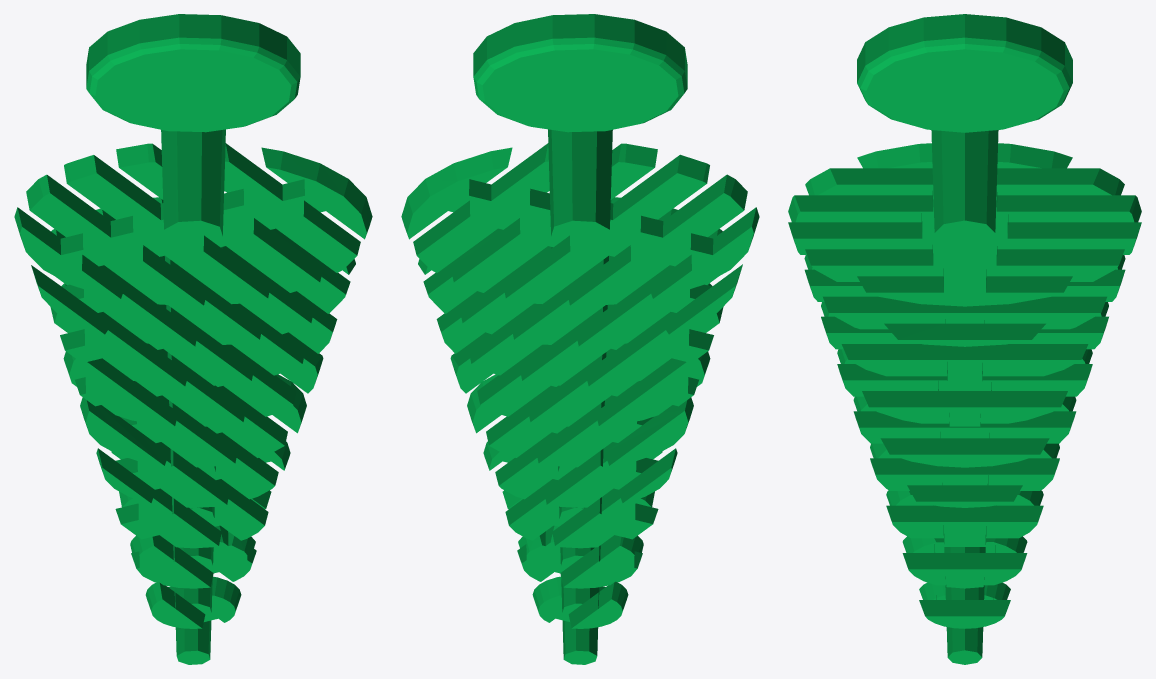
3 renders of one model, left to right at view 1: azimuth 30°, elevation 25°; view 2: azimuth 150°, elevation 25°; view 3: azimuth 270°, elevation 25°, orthographic.
Visible parts, largest first — view 1: 007_L_347100_PART_1, 004_L_347100_PART_2, 011_L_347100_PART_3; view 2: 007_L_347100_PART_1, 004_L_347100_PART_2, 011_L_347100_PART_3; view 3: 007_L_347100_PART_1, 004_L_347100_PART_2, 011_L_347100_PART_3.
Part boxes in pixels (x1,y1,x2,y2): 007_L_347100_PART_1: (14, 143, 372, 628); 004_L_347100_PART_2: (86, 14, 300, 132); 011_L_347100_PART_3: (161, 129, 225, 664); 007_L_347100_PART_1: (401, 143, 759, 628); 004_L_347100_PART_2: (473, 14, 687, 132); 011_L_347100_PART_3: (548, 129, 612, 664); 007_L_347100_PART_1: (788, 143, 1141, 628); 004_L_347100_PART_2: (857, 14, 1072, 132); 011_L_347100_PART_3: (931, 130, 998, 664).
Bounding box in the file's own units: 3.3 × 6.08 × 3.26.
